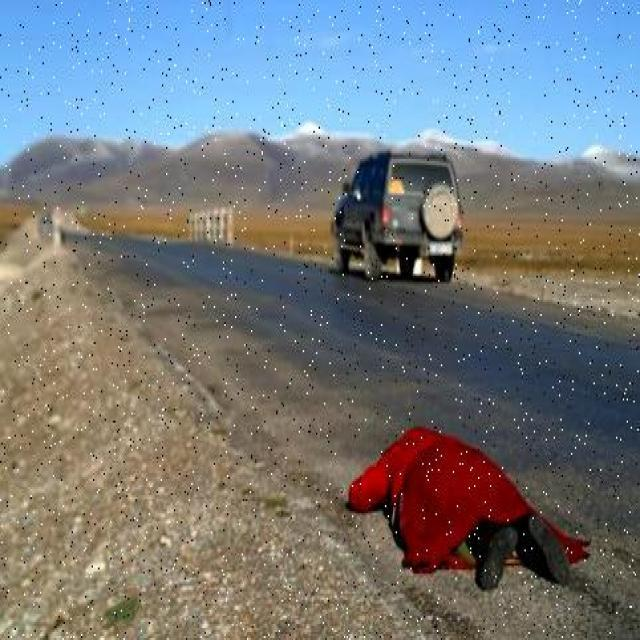fall: (358, 426, 568, 586)
